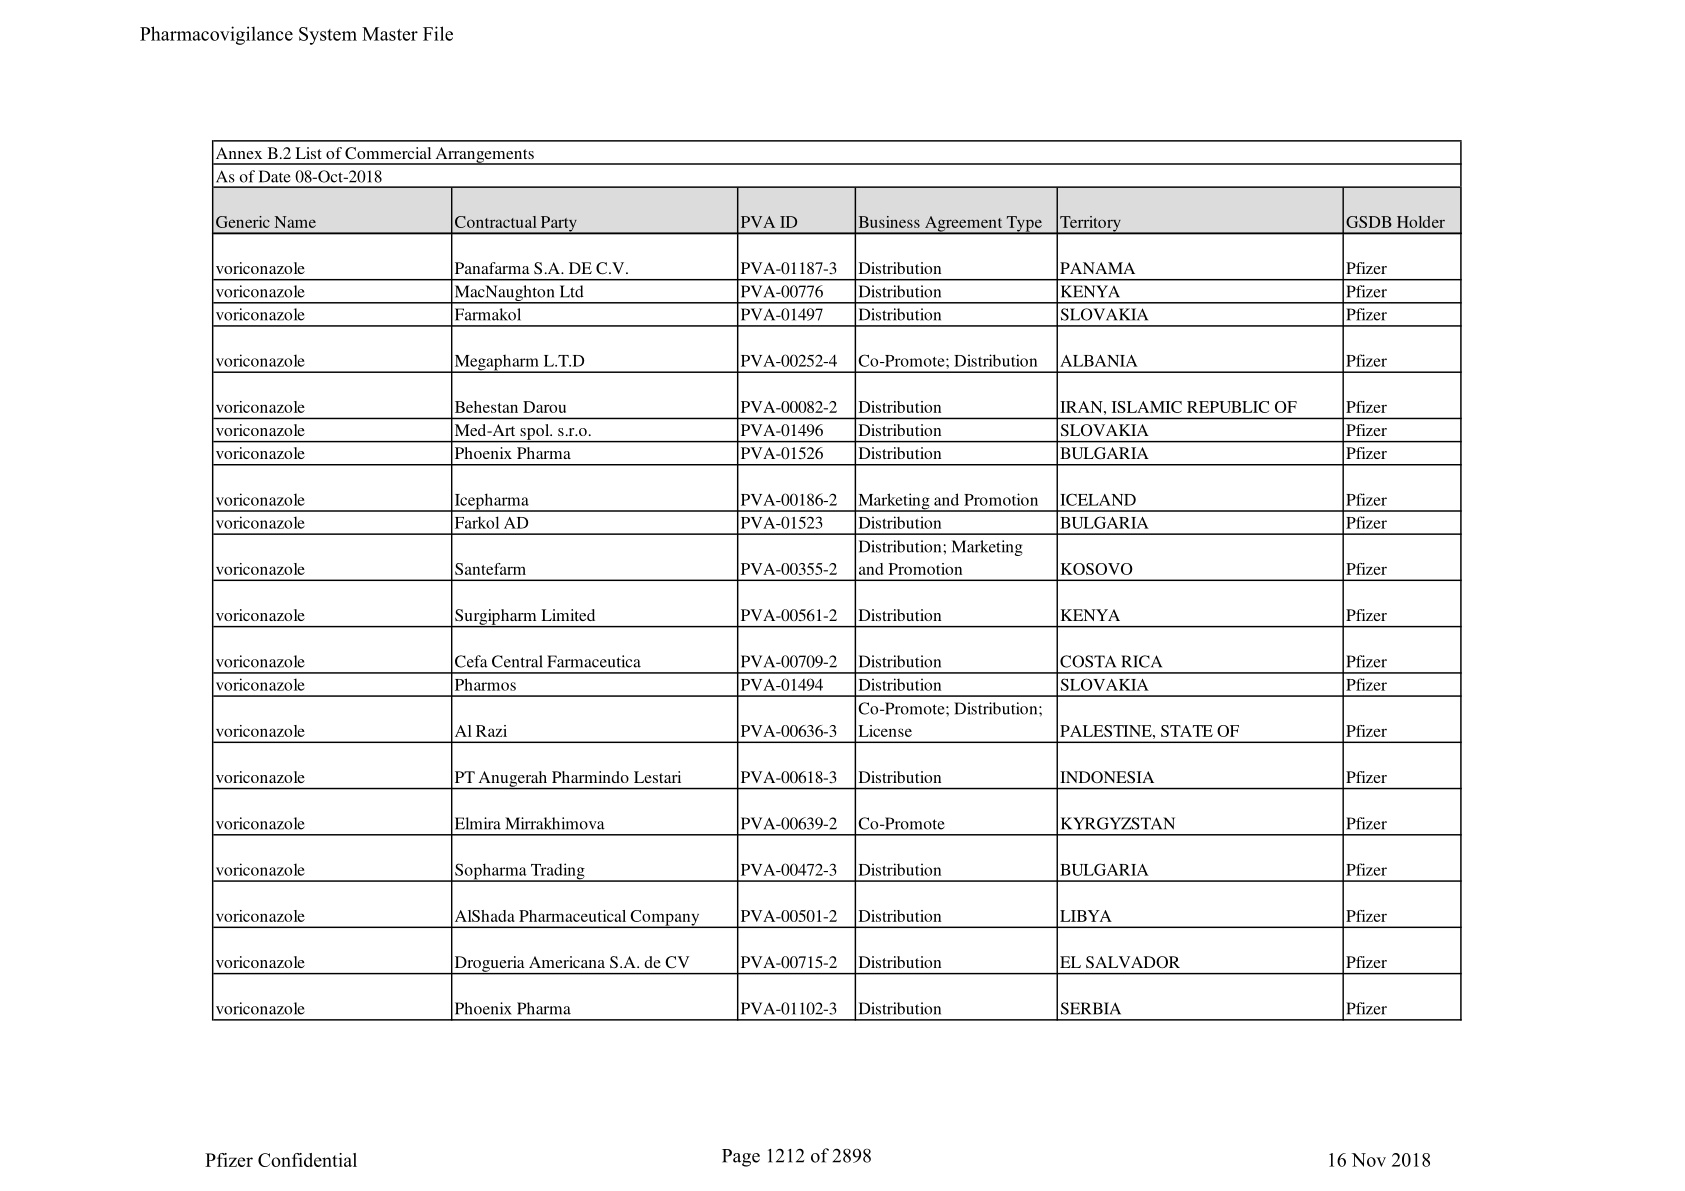merged_cells: (211, 138, 1463, 1021)
